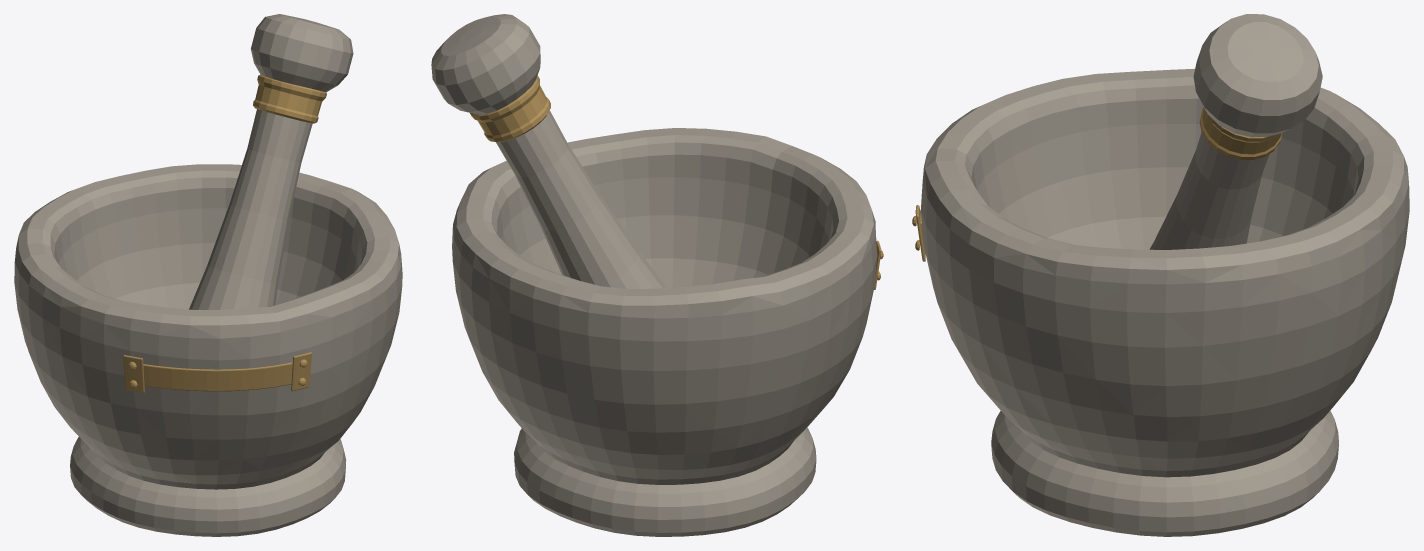
Rendered from asset.glb.
The picture shows the model from 3 angles, left to right: view 1: azimuth 30°, elevation 25°; view 2: azimuth 150°, elevation 25°; view 3: azimuth 270°, elevation 25°; orthographic projection. The views are drawn at different scales.
Parts seen in each view (by area): view 1: mortar_body, pestle_stone, mortar_repair_band, pestle_brass_collar, mortar_repair_end_left, mortar_repair_end_right; view 2: mortar_body, pestle_stone, pestle_brass_collar; view 3: mortar_body, pestle_stone, pestle_brass_collar.
Boxes of the visible parts, x1,y1,x2,y2 form: mortar_body: (14,164,402,536); pestle_stone: (189,14,353,309); mortar_repair_band: (143,362,292,391); pestle_brass_collar: (253,74,326,123); mortar_repair_end_left: (123,355,144,392); mortar_repair_end_right: (291,352,311,391); mortar_body: (452,128,877,536); pestle_stone: (431,14,667,288); pestle_brass_collar: (470,75,550,142); mortar_body: (921,68,1409,536); pestle_stone: (1149,14,1322,249); pestle_brass_collar: (1199,107,1282,159).
Bounding box in the file's own units: 0.2022 × 0.2366 × 0.2045.
